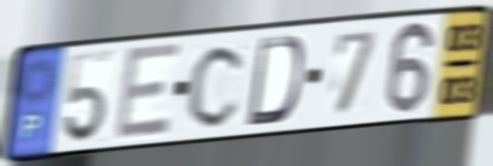5: (60, 47, 122, 147)
6: (384, 19, 436, 117)
7: (330, 28, 380, 118)
C: (184, 41, 249, 131)
D: (243, 33, 306, 129)
E: (113, 40, 185, 145)
